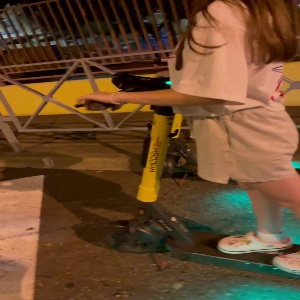human on a scooter: (71, 1, 300, 284)
